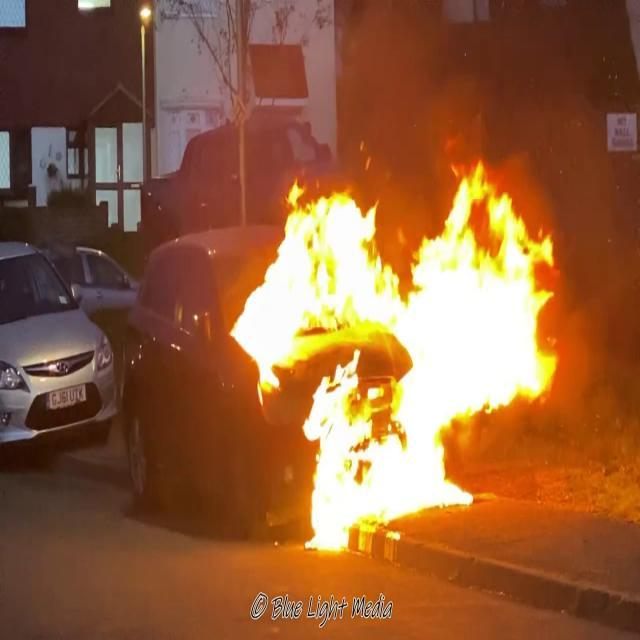Fire: (226, 158, 566, 540)
